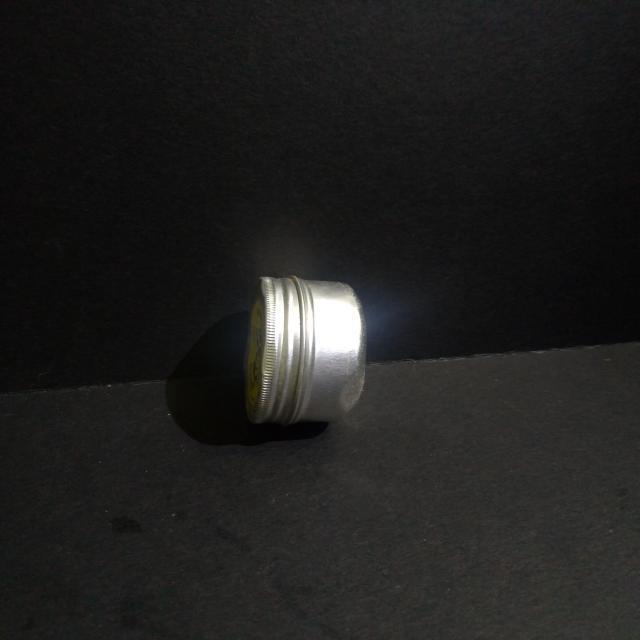metal: (238, 274, 367, 434)
